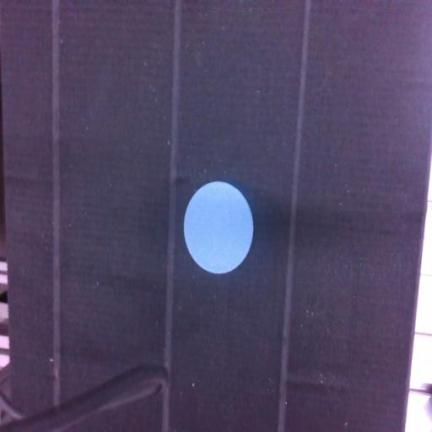cylinder: (184, 181, 253, 273)
